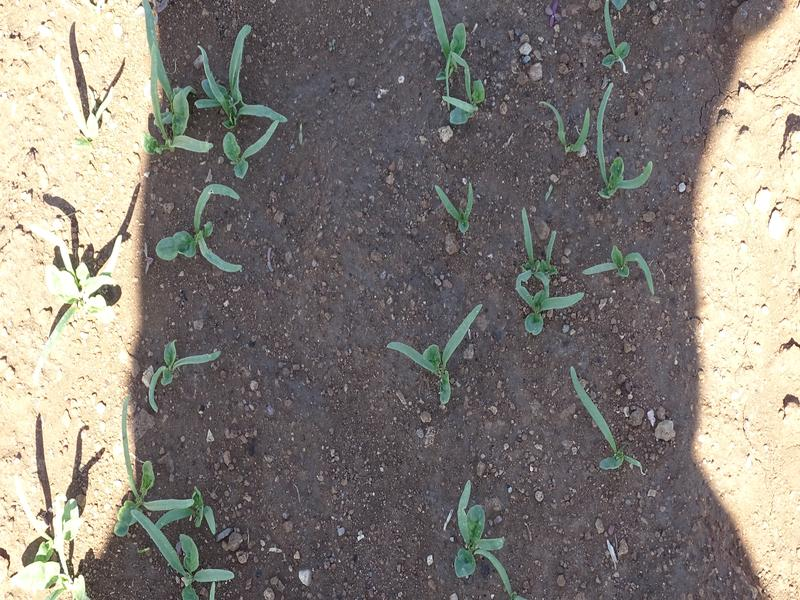Espinaca: (136, 31, 288, 284), (126, 341, 250, 592), (33, 61, 132, 329), (567, 85, 663, 204), (562, 370, 652, 484), (14, 472, 95, 594), (518, 199, 592, 329), (424, 11, 496, 132), (447, 489, 521, 600), (402, 287, 467, 413), (592, 241, 655, 300), (441, 179, 494, 247), (603, 6, 646, 75)
